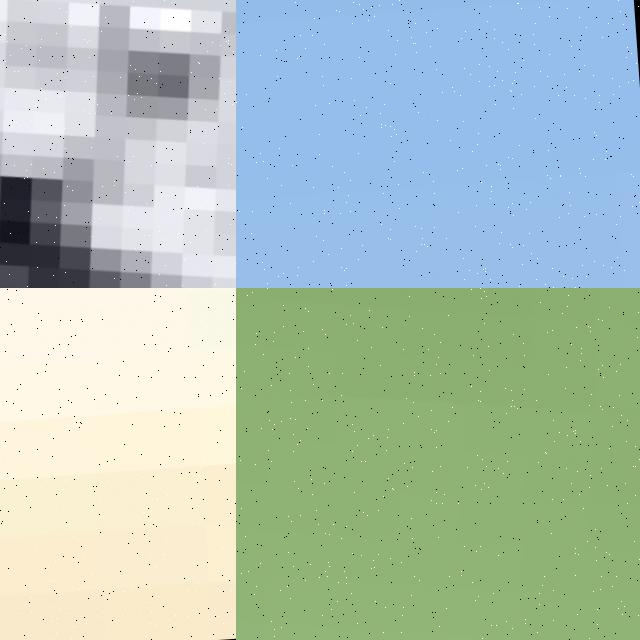0: (0, 0, 236, 288)
drone: (236, 288, 640, 640)
